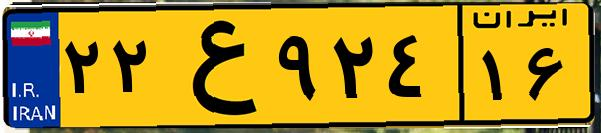1: (475, 38, 525, 113)
2: (330, 28, 385, 110), (57, 26, 110, 100), (110, 28, 158, 98)
4: (385, 28, 445, 110)
6: (525, 38, 570, 115)
9: (270, 28, 330, 110)
ع: (158, 12, 270, 120)
